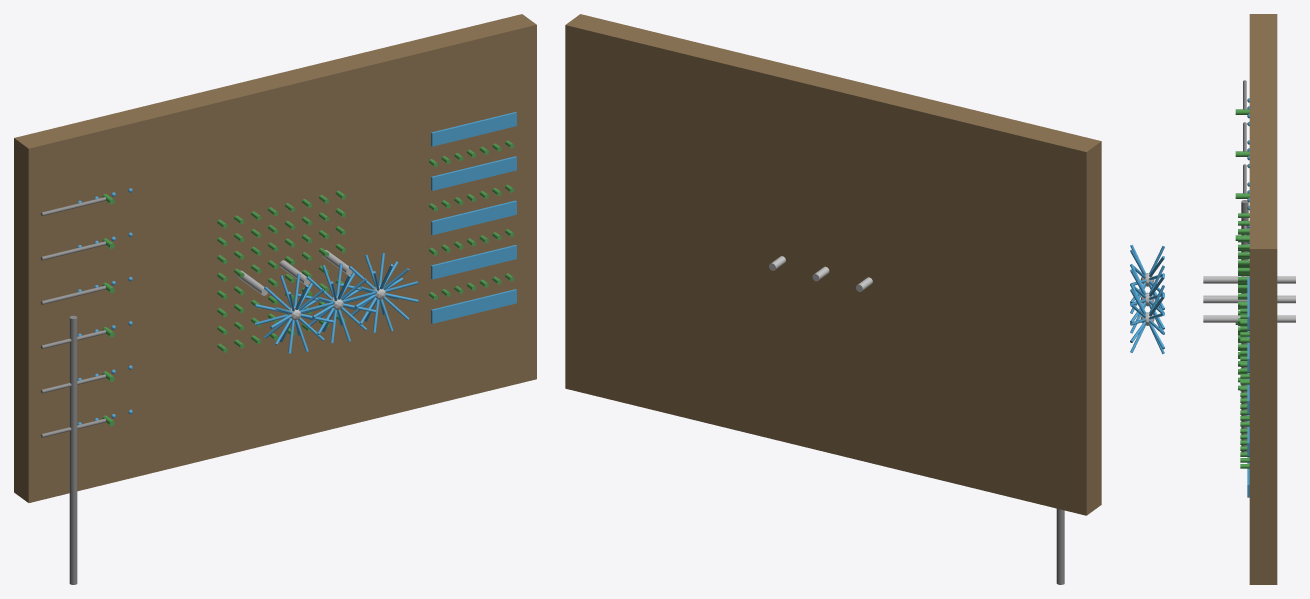
Rendered from irrigation_systems.glb.
3 renders of one model, left to right at view 1: azimuth 30°, elevation 25°; view 2: azimuth 150°, elevation 25°; view 3: azimuth 270°, elevation 25°, orthographic. The views are drawn at different scales.
Visible parts, largest first — view 1: world; view 2: world; view 3: world.
Boxes of the visible parts, x1=… form: world: x1=14, y1=14, x2=536, y2=584; world: x1=565, y1=14, x2=1101, y2=584; world: x1=1130, y1=14, x2=1295, y2=584.
Size of the model in its own units: 12 by 10 by 3.58.
